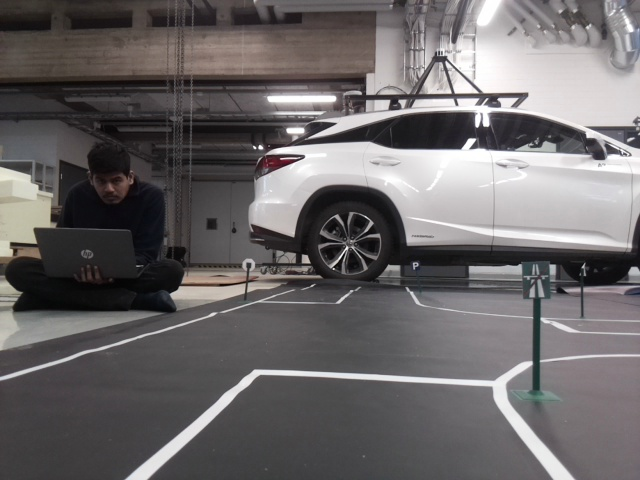HighwayExit: (522, 262, 549, 299)
